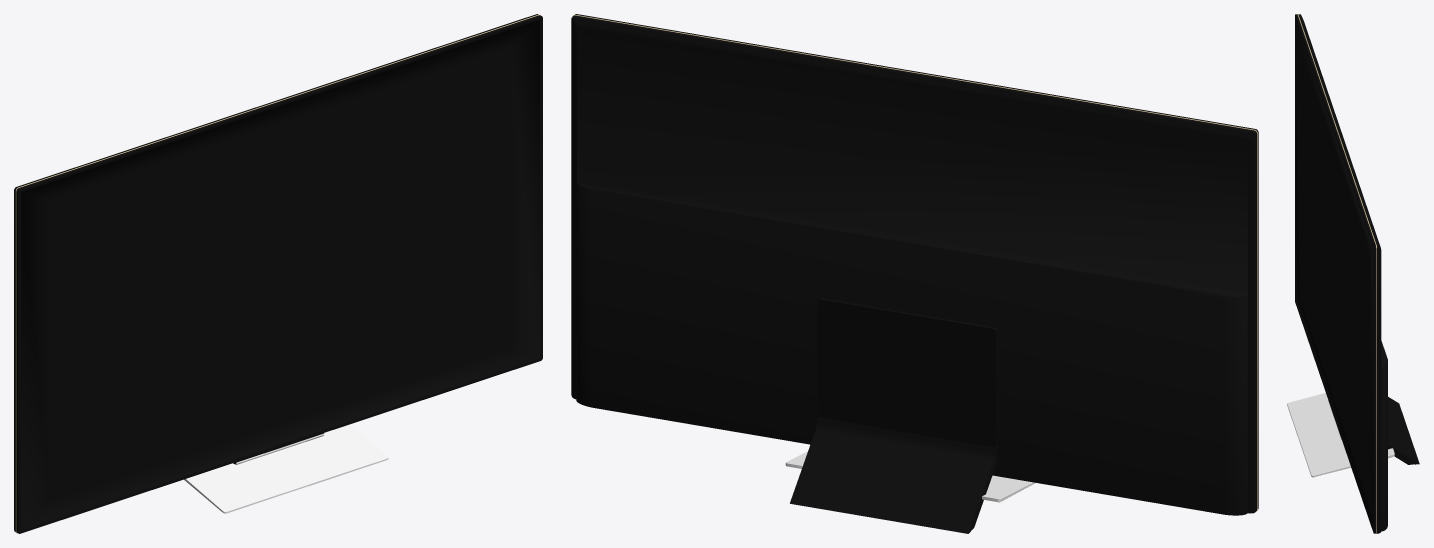
File: secondary_screen.glb
3 renders of one model, left to right at view 1: azimuth 30°, elevation 25°; view 2: azimuth 150°, elevation 25°; view 3: azimuth 270°, elevation 25°, orthographic. The views are drawn at different scales.
Parts seen in each view (by area): view 1: TV screen.001; view 2: TV screen.001; view 3: TV screen.001.
Boxes of the visible parts, left/top/right/bottom form: TV screen.001: left=14, top=14, right=542, bottom=533; TV screen.001: left=571, top=14, right=1258, bottom=533; TV screen.001: left=1287, top=14, right=1419, bottom=533.
Bounding box in the file's own units: 0.8849 × 0.5473 × 0.2126.
